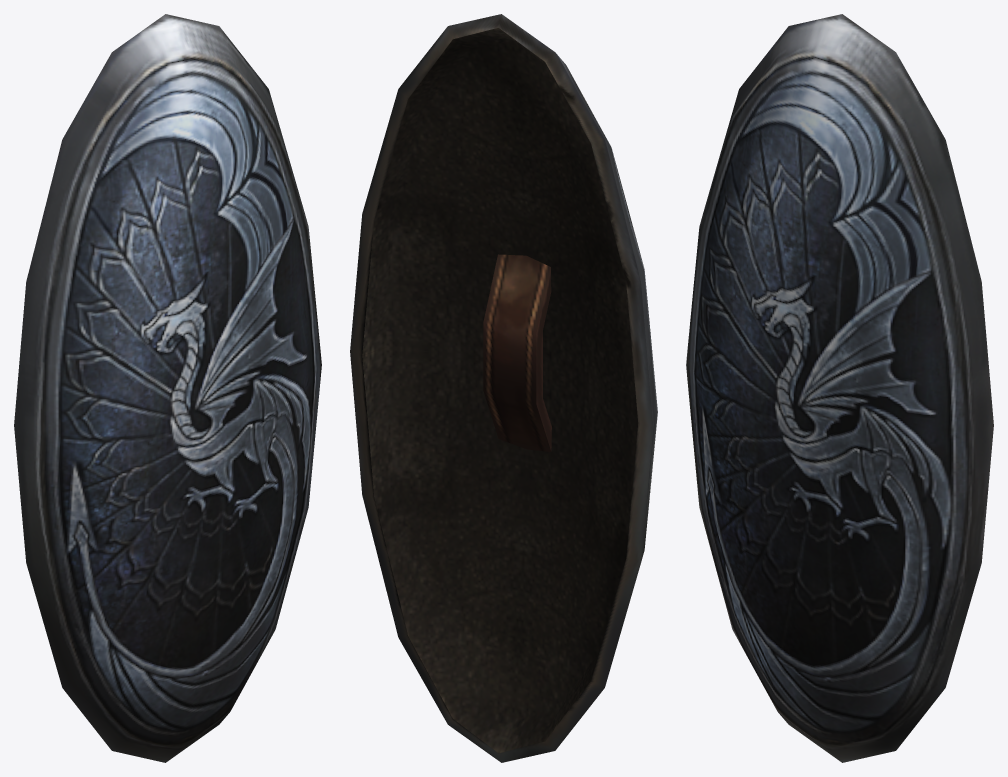
Rendered from Ruanxingdun.FBX.
3 renders of one model, left to right at view 1: azimuth 30°, elevation 25°; view 2: azimuth 150°, elevation 25°; view 3: azimuth 330°, elevation 25°, orthographic.
Visible parts, largest first — view 1: Ruanxingdun; view 2: Ruanxingdun; view 3: Ruanxingdun.
Part boxes in pixels (bbox=[...]): Ruanxingdun: bbox=[14, 14, 321, 762]; Ruanxingdun: bbox=[350, 14, 657, 762]; Ruanxingdun: bbox=[686, 14, 993, 762].
Bounding box in the file's own units: 61.44 × 145 × 14.19.
1 material, 1 textured.
